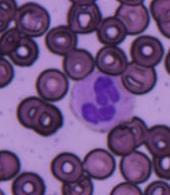N: (70, 71, 135, 131)
